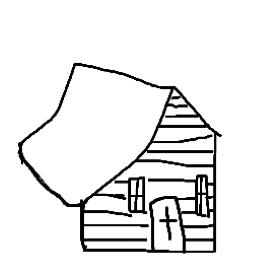bottom_placed_house: (2, 0, 260, 260)
closed_window: (189, 170, 214, 218), (123, 174, 148, 217)
door: (143, 188, 189, 256)
roof: (11, 61, 241, 205)
wall: (73, 67, 236, 260)
